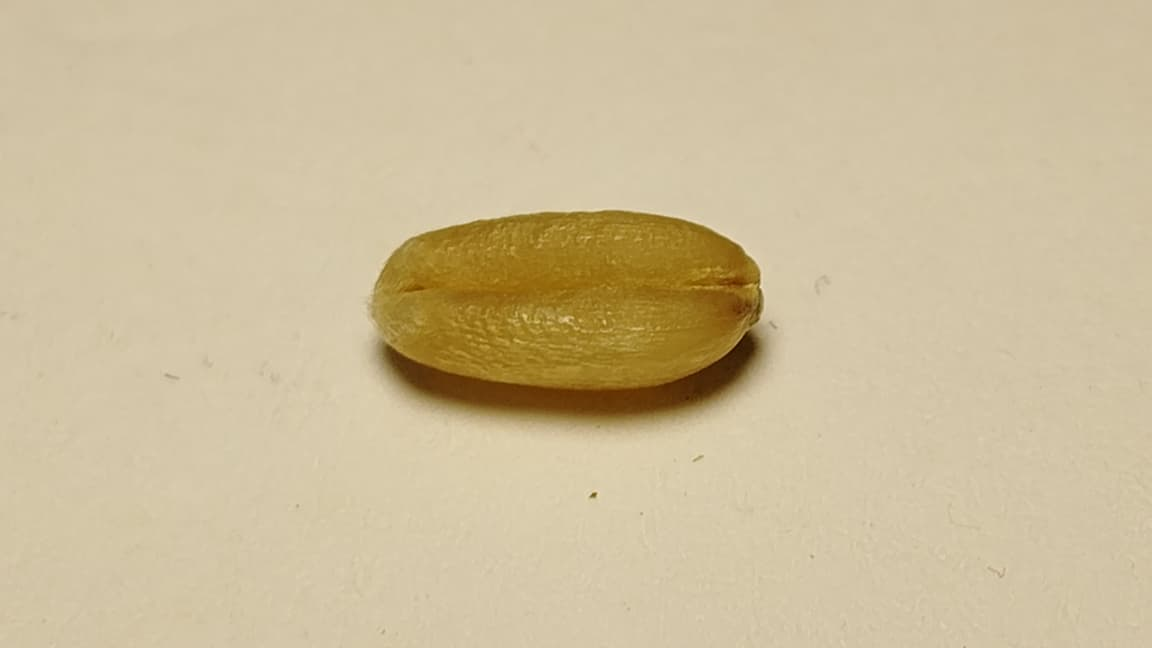healthy: (371, 210, 760, 388)
